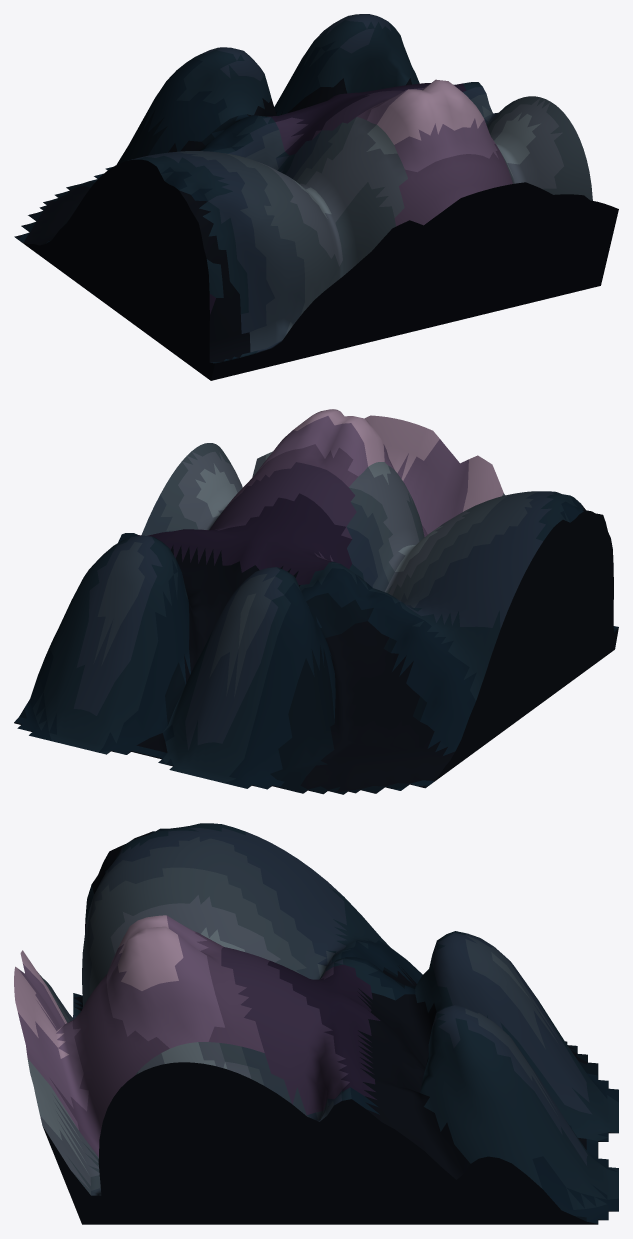
File: gyges_maw_5.glb
3 views of the same model, one above another, from view 1: azimuth 30°, elevation 25°; view 2: azimuth 150°, elevation 25°; view 3: azimuth 270°, elevation 25° (orthographic). The views are drawn at different scales.
Parts seen in each view (by area): view 1: gyges_maw_5; view 2: gyges_maw_5; view 3: gyges_maw_5.
Boxes of the visible parts, left/top/right/bottom form: gyges_maw_5: left=14, top=14, right=618, bottom=380; gyges_maw_5: left=14, top=409, right=618, bottom=794; gyges_maw_5: left=14, top=823, right=618, bottom=1224.
Bounding box in the file's own units: 24 × 12.2 × 29.3.
